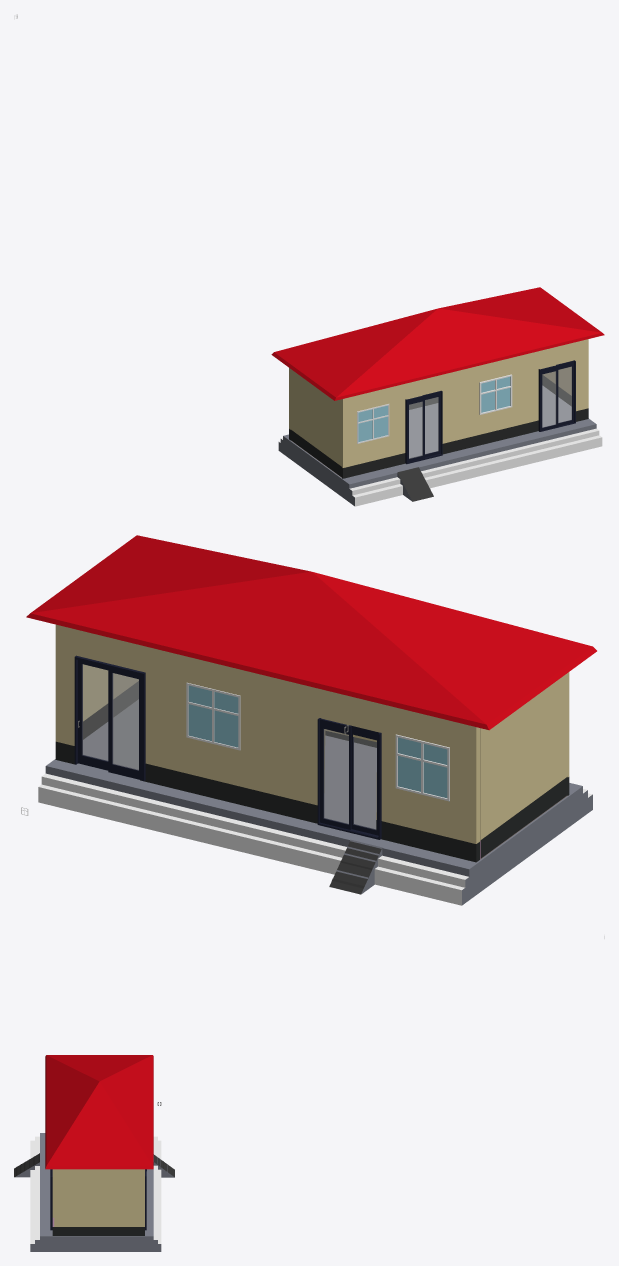
The model's file is Parking_imported.fbx.
3 renders of one model, top to bottom at view 1: azimuth 30°, elevation 25°; view 2: azimuth 150°, elevation 25°; view 3: azimuth 270°, elevation 25°, orthographic. The views are drawn at different scales.
Visible parts, largest first — view 1: Room, Plane, 16668_84x96_Slider_Door-Black_V1_1.008, 16668_84x96_Slider_Door-Black_V1_1.007, 16668_84x96_Slider_Door-Black_V1.001_0.007, 16668_84x96_Slider_Door-Black_V1.001_0.008; view 2: Room, Plane, 16668_84x96_Slider_Door-Black_V1_1, 16668_84x96_Slider_Door-Black_V1_1.006, 16668_84x96_Slider_Door-Black_V1.001_0.006, 16668_84x96_Slider_Door-Black_V1.001_0, 16668_84x96_Slider_Door-Black_V1_1.001, Object_2.001, Object_2.002; view 3: Room, Plane.
Boxes of the visible parts, bbox=[...] form: Room: bbox=[271, 287, 604, 478]; Plane: bbox=[278, 385, 602, 506]; 16668_84x96_Slider_Door-Black_V1_1.008: bbox=[405, 390, 442, 464]; 16668_84x96_Slider_Door-Black_V1_1.007: bbox=[538, 360, 575, 431]; 16668_84x96_Slider_Door-Black_V1.001_0.007: bbox=[556, 360, 574, 426]; 16668_84x96_Slider_Door-Black_V1.001_0.008: bbox=[423, 391, 440, 457]; Room: bbox=[26, 535, 596, 862]; Plane: bbox=[38, 699, 592, 905]; 16668_84x96_Slider_Door-Black_V1_1: bbox=[74, 655, 145, 781]; 16668_84x96_Slider_Door-Black_V1_1.006: bbox=[317, 718, 381, 839]; 16668_84x96_Slider_Door-Black_V1.001_0.006: bbox=[320, 718, 351, 829]; 16668_84x96_Slider_Door-Black_V1.001_0: bbox=[78, 660, 108, 770]; 16668_84x96_Slider_Door-Black_V1_1.001: bbox=[113, 673, 138, 769]; Object_2.001: bbox=[395, 734, 449, 801]; Object_2.002: bbox=[186, 682, 240, 750]; Room: bbox=[45, 1055, 153, 1235]; Plane: bbox=[14, 1133, 174, 1251].
Bounding box in the file's own units: 1692 × 766 × 670.
